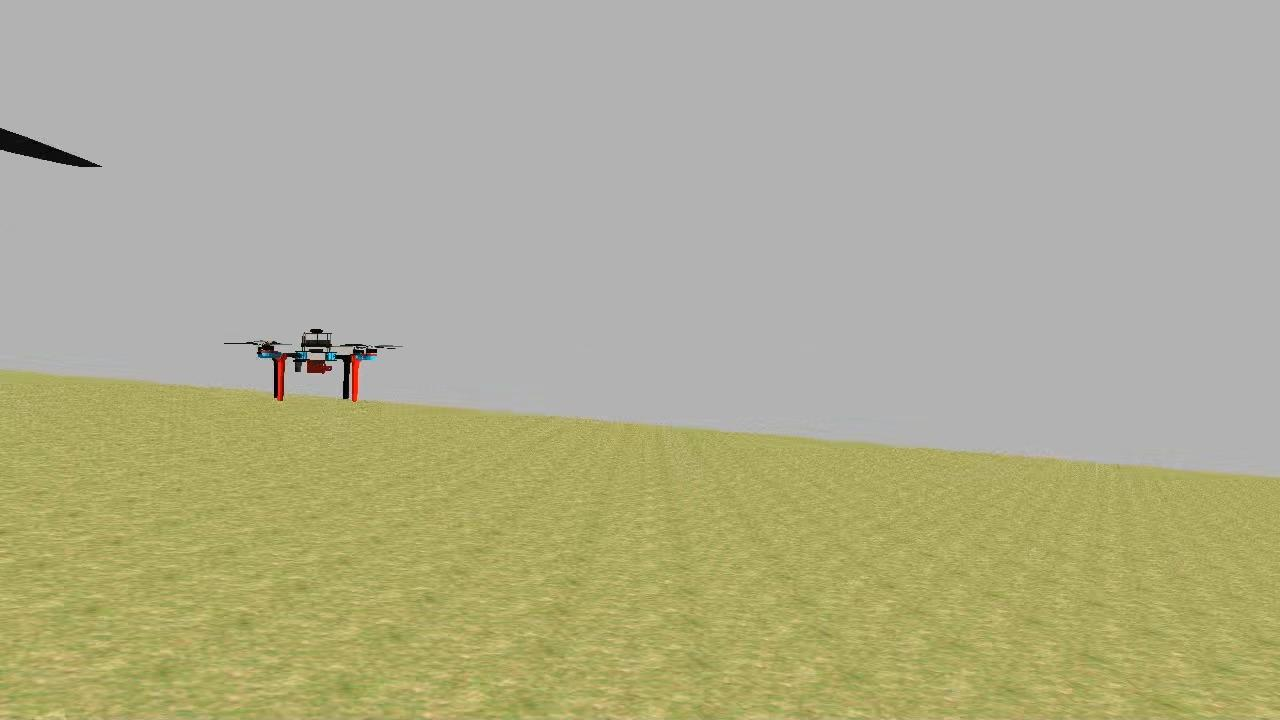UAV: (248, 324, 376, 408)
